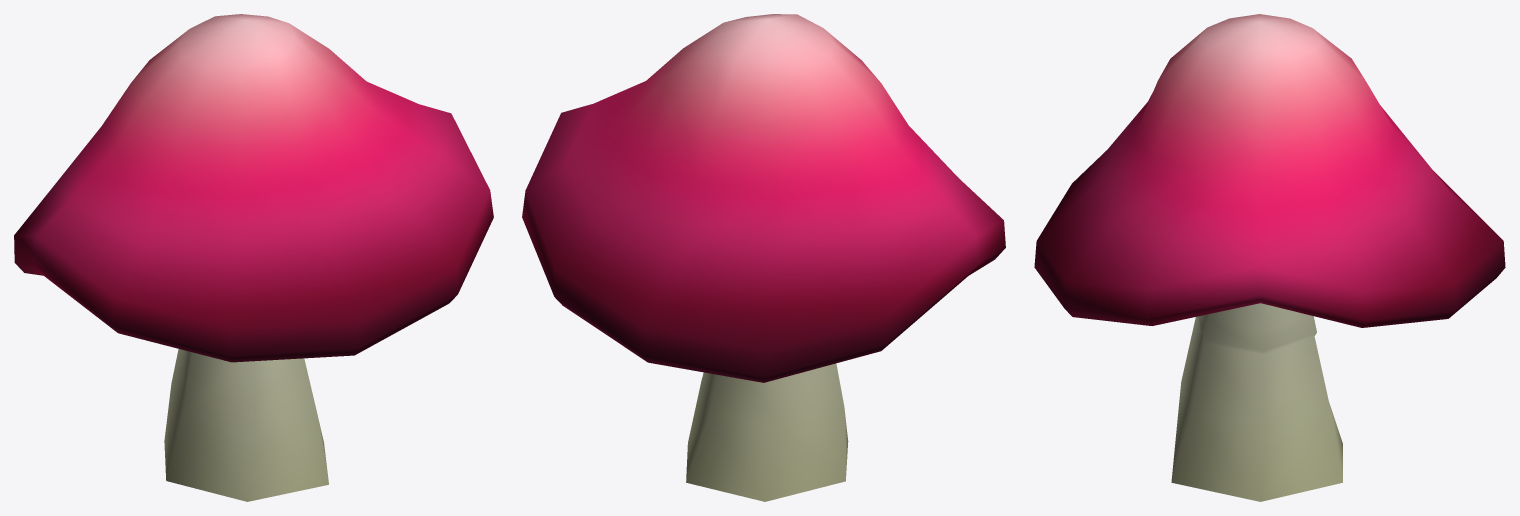
Rendered from Mushroom_A.fbx.
The picture shows the model from 3 angles, left to right: view 1: azimuth 30°, elevation 25°; view 2: azimuth 150°, elevation 25°; view 3: azimuth 270°, elevation 25°; orthographic projection.
Parts seen in each view (by area): view 1: Mushroom_A; view 2: Mushroom_A; view 3: Mushroom_A.
Boxes of the visible parts, x1,y1,x2,y2 form: Mushroom_A: (14, 14, 493, 501); Mushroom_A: (522, 14, 1005, 501); Mushroom_A: (1034, 14, 1505, 501).
Size of the model in its own units: 24.96 by 24.92 by 24.09.
